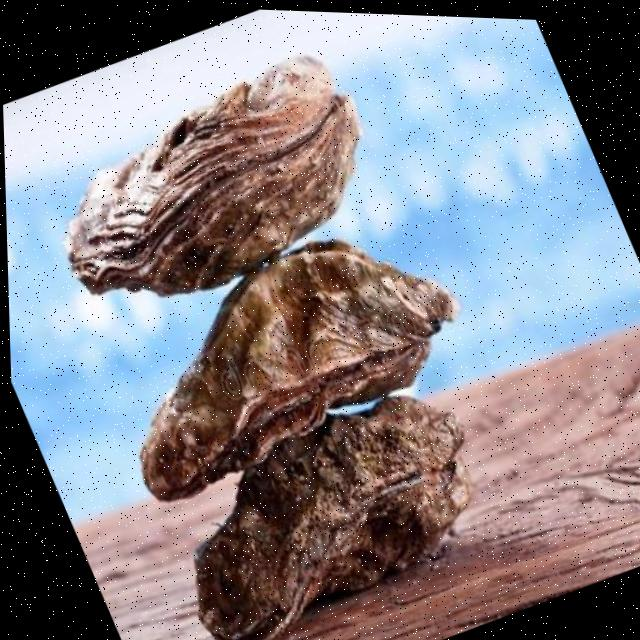Oyster-Closed: (138, 242, 461, 505), (64, 54, 363, 299), (192, 395, 476, 640)
